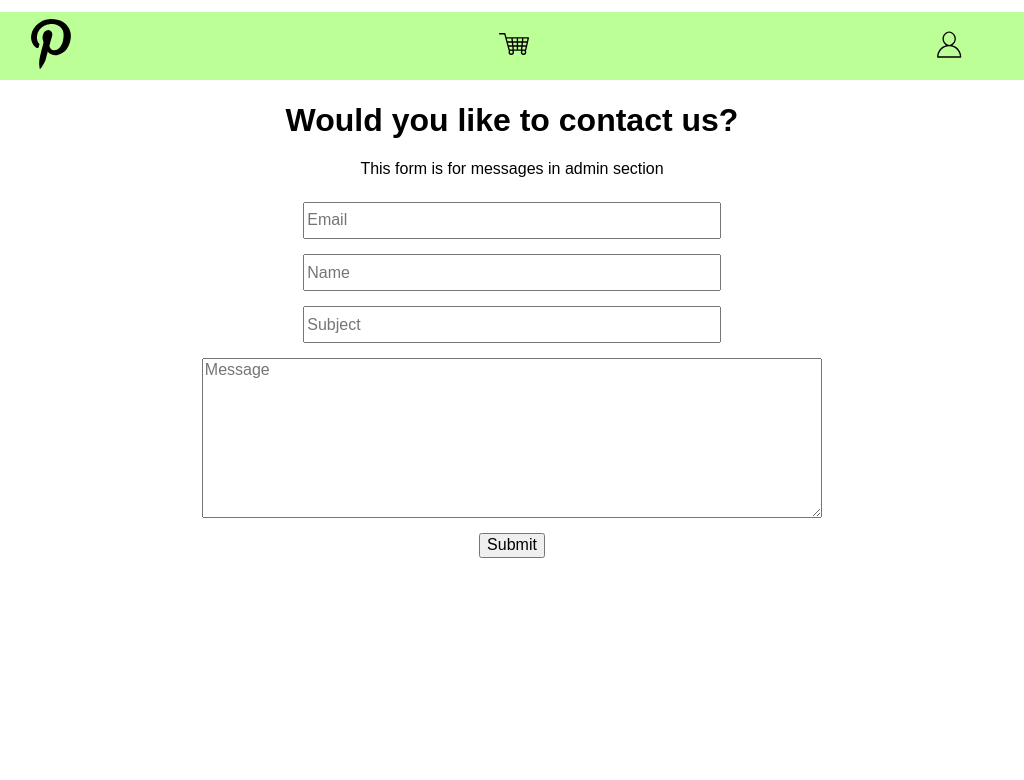
it: Contact fields accept input › Email input is accepted
This screenshot has width=1024, height=780.
Click the field with placeholder "Email": x=512, y=220 top-left (303, 202), bottom-right (721, 239)
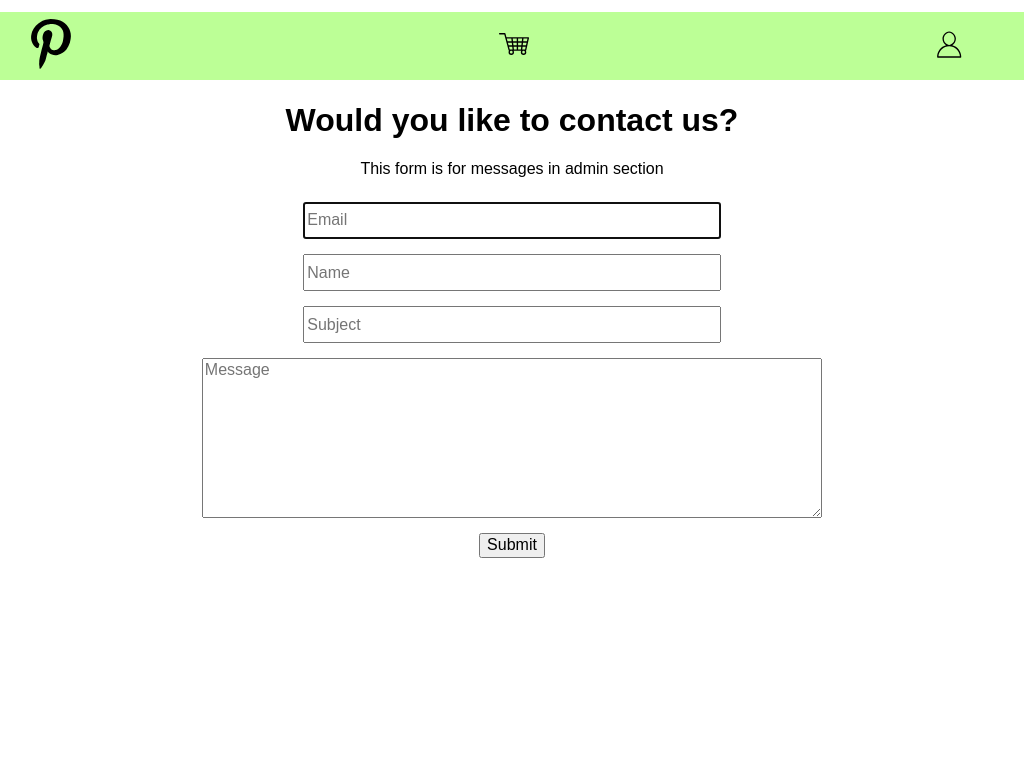
Type keys "test@email"
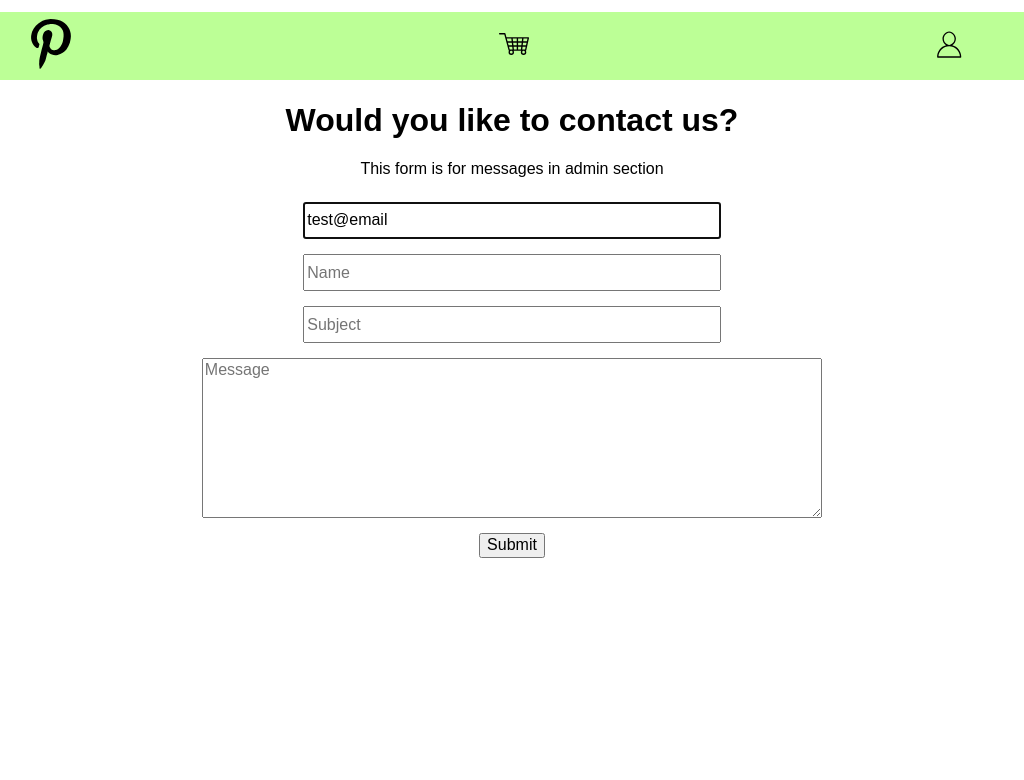
Expected: the field with placeholder "Email" holds "test@email", top-left (303, 202), bottom-right (721, 239)
